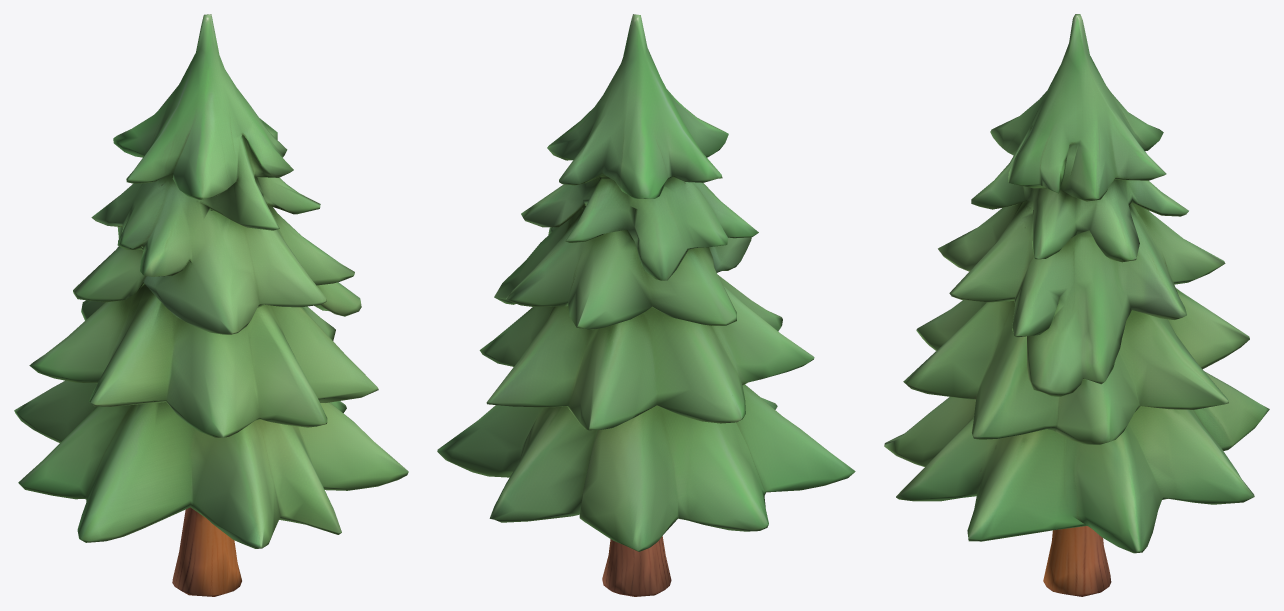
The model's file is tree_pine.glb.
3 views of the same model, side by side, from view 1: azimuth 30°, elevation 25°; view 2: azimuth 150°, elevation 25°; view 3: azimuth 270°, elevation 25° (orthographic).
Parts seen in each view (by area): view 1: world; view 2: world; view 3: world.
Part boxes in pixels (left/top/right/bottom): world: left=14, top=14, right=408, bottom=596; world: left=437, top=14, right=855, bottom=596; world: left=884, top=14, right=1269, bottom=596.
Size of the model in its own units: 0.6279 by 1 by 0.6152.
1 material, 1 textured.
